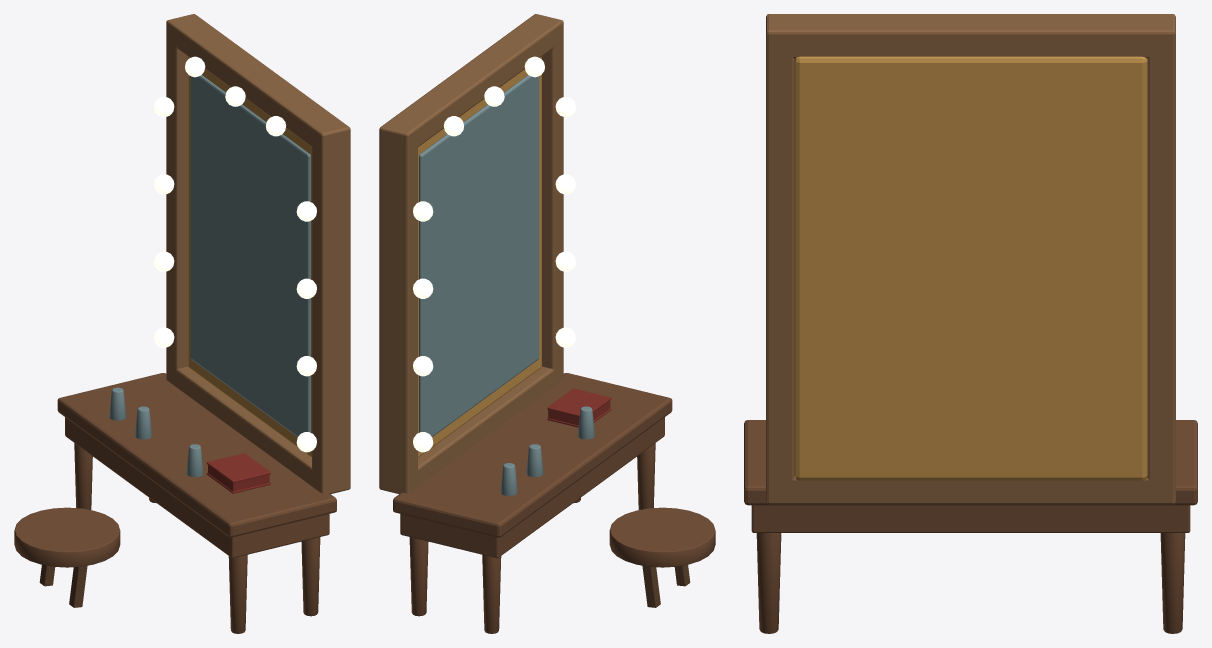
File: SM_CP_DressingTable.fbx
3 renders of one model, left to right at view 1: azimuth 30°, elevation 25°; view 2: azimuth 150°, elevation 25°; view 3: azimuth 270°, elevation 25°, orthographic. The views are drawn at different scales.
Parts seen in each view (by area): view 1: SM_CP_DressingTable; view 2: SM_CP_DressingTable; view 3: SM_CP_DressingTable.
Boxes of the visible parts, <box> form: SM_CP_DressingTable: <box>14,14,350,633</box>; SM_CP_DressingTable: <box>379,14,715,633</box>; SM_CP_DressingTable: <box>744,14,1197,633</box>.
Size of what is drawn, in the model's own units: 200 by 236 by 358.
